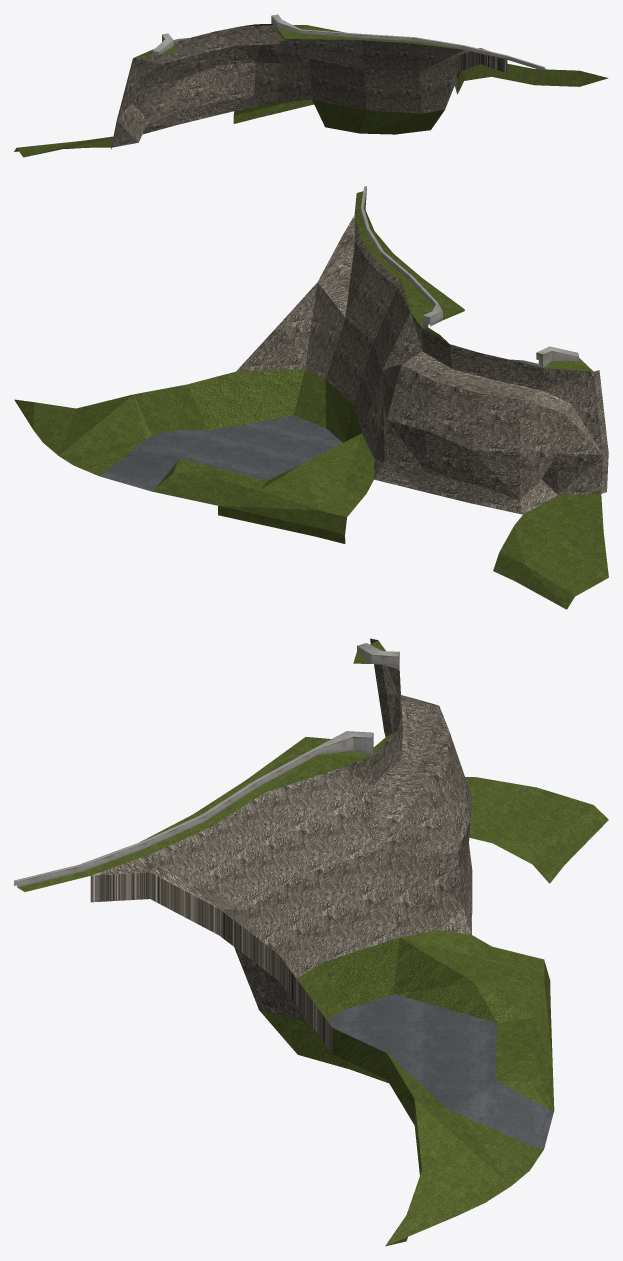
Rendered from land_18_sfw.obj.
3 views of the same model, one above another, from view 1: azimuth 30°, elevation 25°; view 2: azimuth 150°, elevation 25°; view 3: azimuth 270°, elevation 25° (orthographic). The views are drawn at different scales.
Visible parts, largest first — view 1: land_18_sfw; view 2: land_18_sfw; view 3: land_18_sfw.
Boxes of the visible parts, bbox=[...] form: land_18_sfw: bbox=[14, 14, 608, 157]; land_18_sfw: bbox=[14, 186, 608, 609]; land_18_sfw: bbox=[14, 638, 608, 1246].
Bounding box in the file's own units: 198 × 54.99 × 116.
4 materials, 4 textured.
